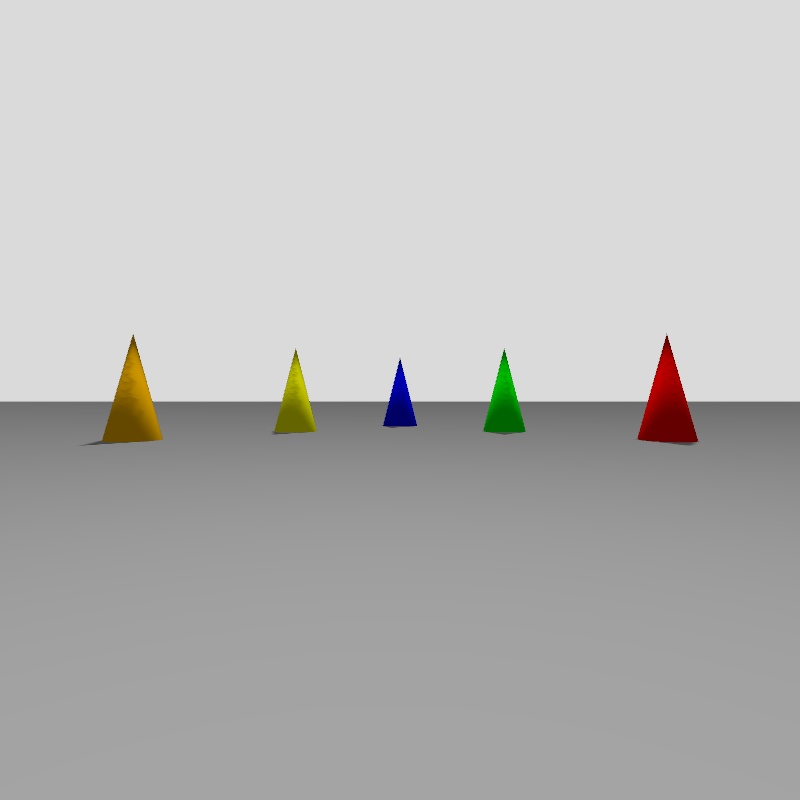Blue_cone: (384, 360, 416, 426)
Green_cone: (485, 350, 525, 433)
Orange_cone: (104, 337, 162, 442)
Red_cone: (638, 336, 697, 440)
Yellow_cone: (275, 350, 315, 432)
